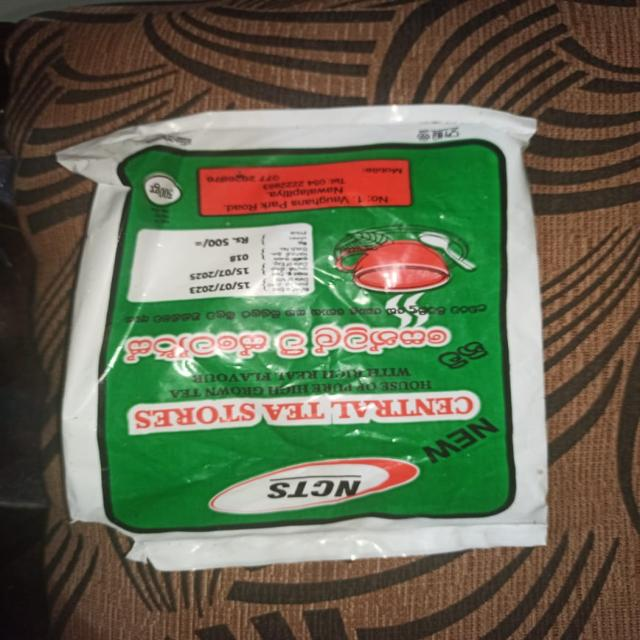Central Tea: (86, 142, 541, 591)
